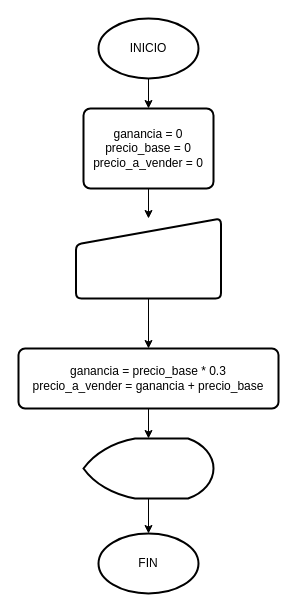
The diagram is 296 pixels wide and 611 high, and some of its shapes have lost their labels. Each missing label, with the centre of its shape:
ganancia precio_base precio_a_vender: point (148, 258)
precio_a_vender: point (148, 468)
